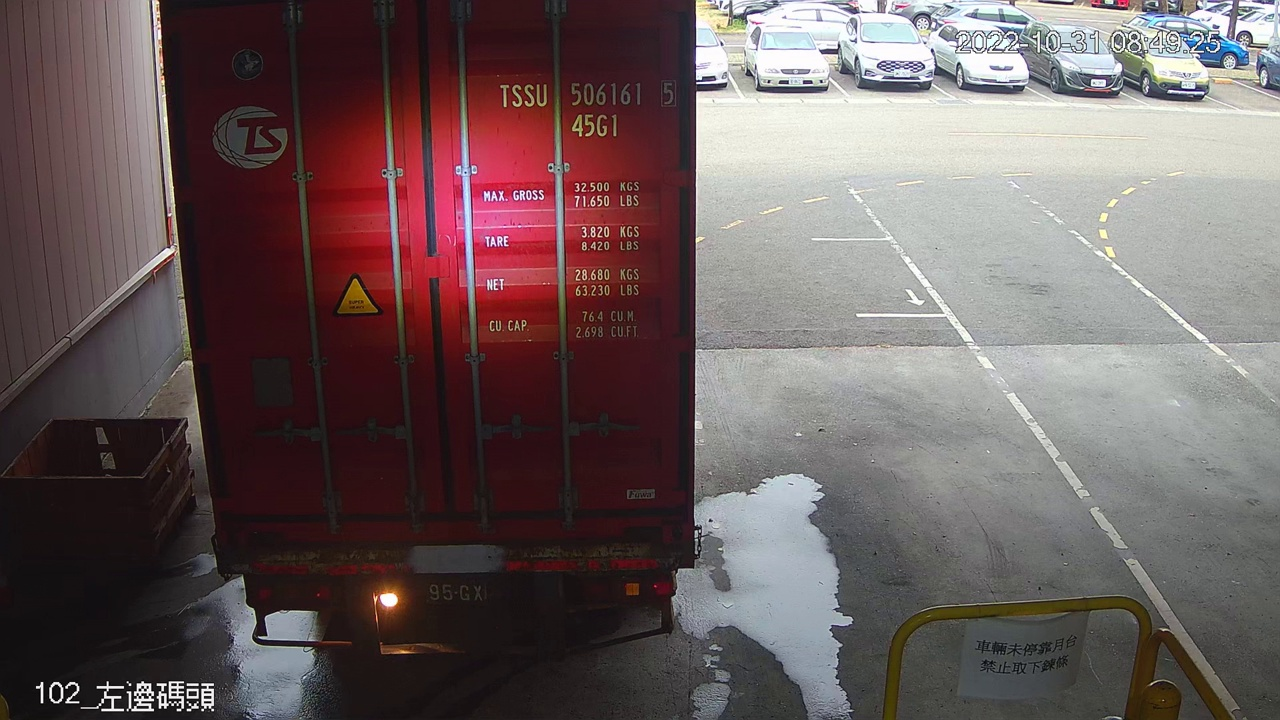container: (490, 74, 683, 148)
